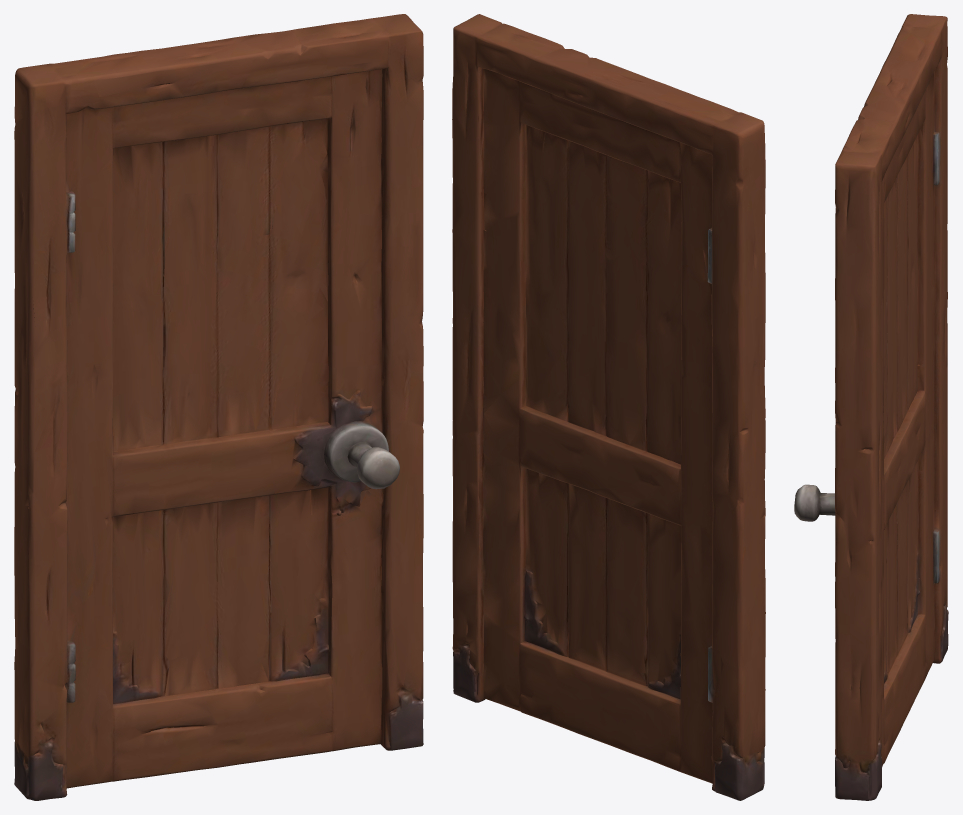
File: door_wood_vnutrennyaya.glb
3 renders of one model, left to right at view 1: azimuth 30°, elevation 25°; view 2: azimuth 150°, elevation 25°; view 3: azimuth 270°, elevation 25°, orthographic. The views are drawn at different scales.
Visible parts, largest first — view 1: door; view 2: door; view 3: door.
Part boxes in pixels (x1,y1,x2,y2): door: (14, 14, 423, 800); door: (452, 14, 765, 800); door: (794, 14, 948, 800).
Size of the model in its own units: 1.05 by 2 by 0.4404.
Materials: 1 (1 with a texture image).
